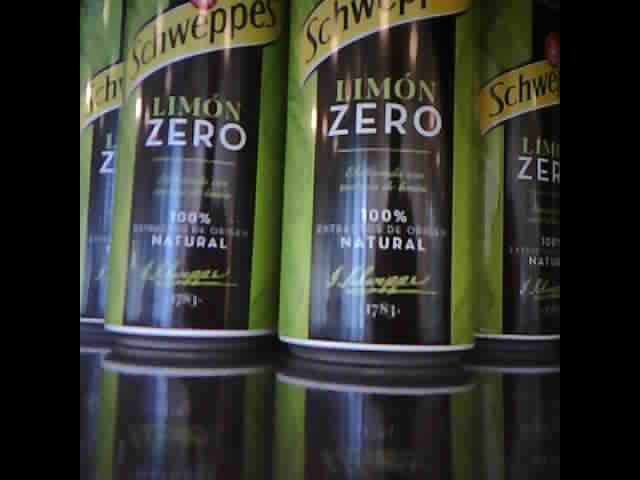schweppes: (275, 3, 482, 362), (102, 2, 290, 353), (472, 2, 563, 348), (80, 1, 125, 334)
